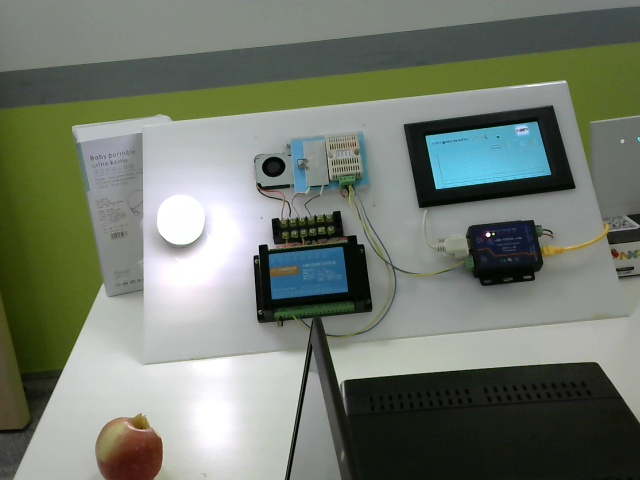fan: (254, 146, 293, 195)
heater: (297, 136, 331, 195)
modbus bridge: (465, 217, 551, 292)
relay: (252, 236, 379, 328)
termperature: (329, 133, 365, 186)
